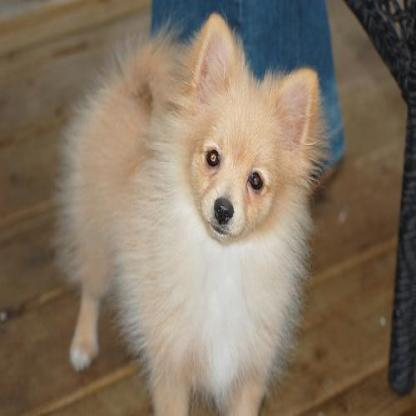Pomeranian: (55, 11, 322, 414)
